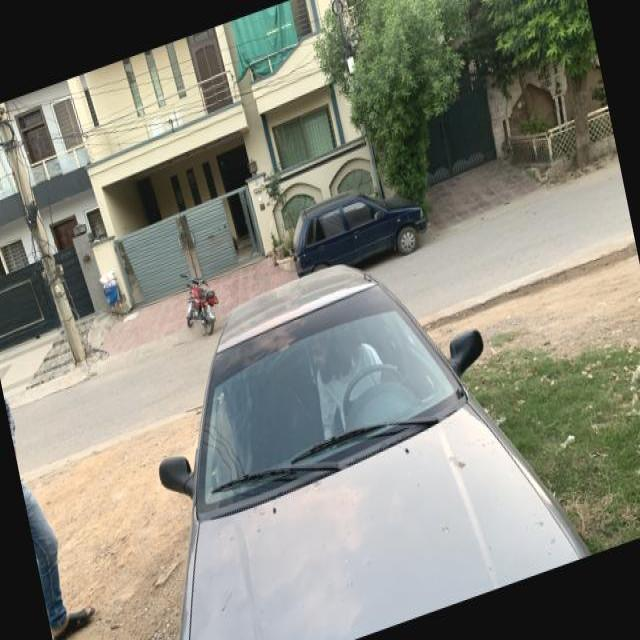no-seatbelt: (305, 368, 407, 428)
